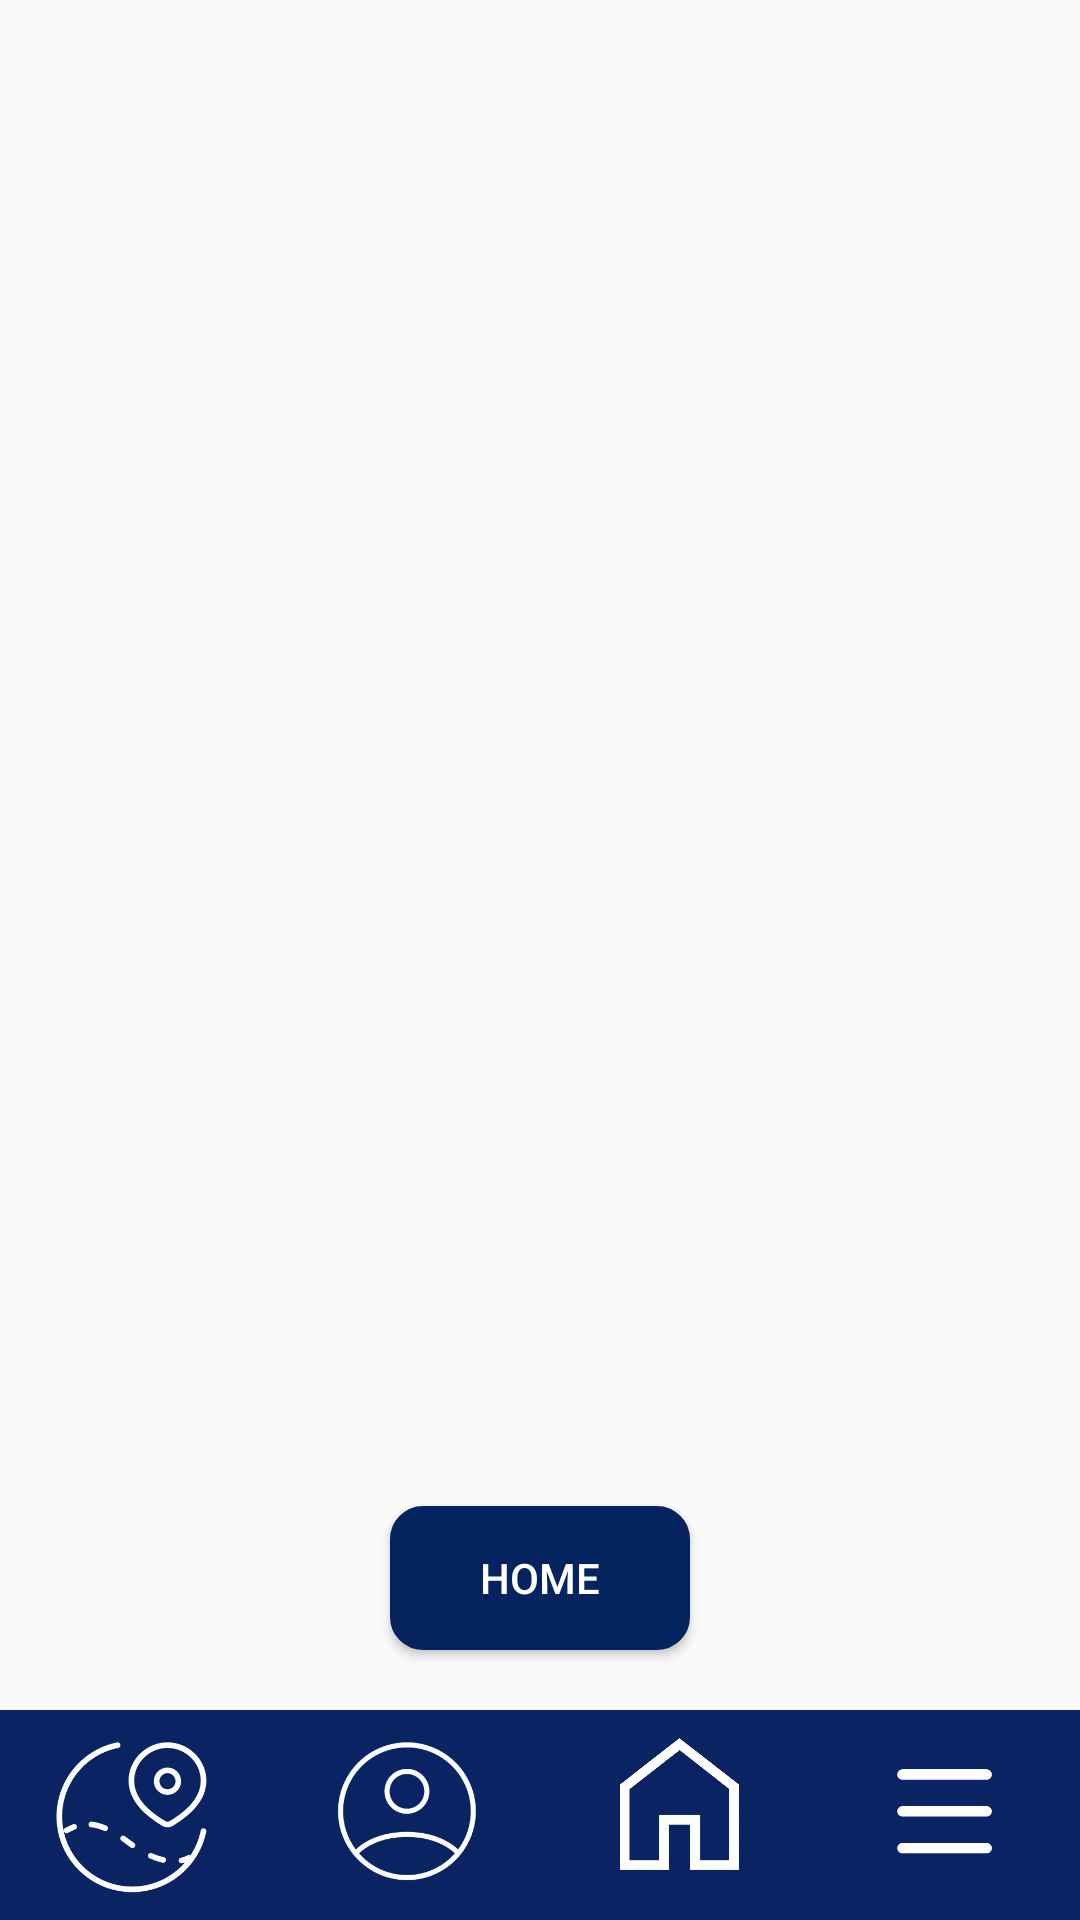

Icons on this 1080 x 1920 Android screen, each with its box as {"left": x1, "top": y1, "right": x2, "bottom": y2}:
Mapa: {"left": 56, "top": 1742, "right": 207, "bottom": 1893}
Menu: {"left": 897, "top": 1769, "right": 992, "bottom": 1854}
Perfil: {"left": 338, "top": 1742, "right": 476, "bottom": 1880}
